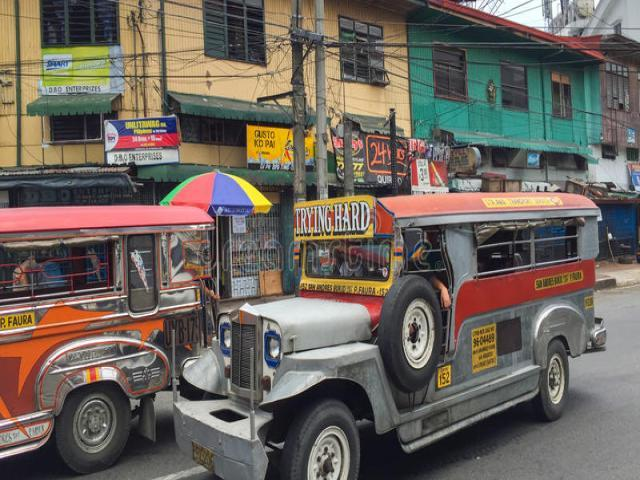jeepney: (172, 170, 599, 480), (3, 191, 208, 480)
